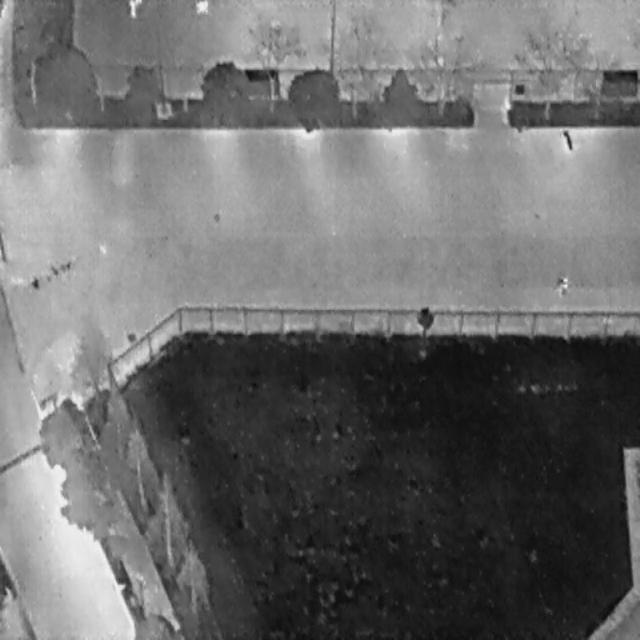Person: (553, 272, 568, 296), (191, 0, 210, 14), (125, 0, 142, 15)
